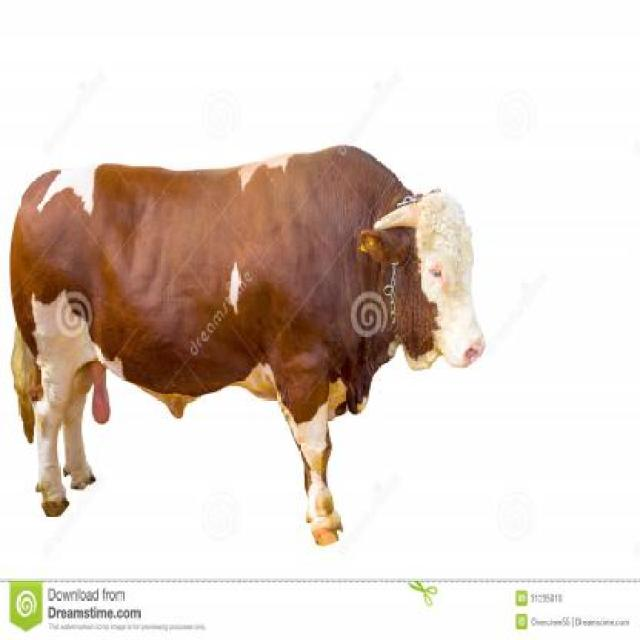Cow: (9, 142, 485, 546)
